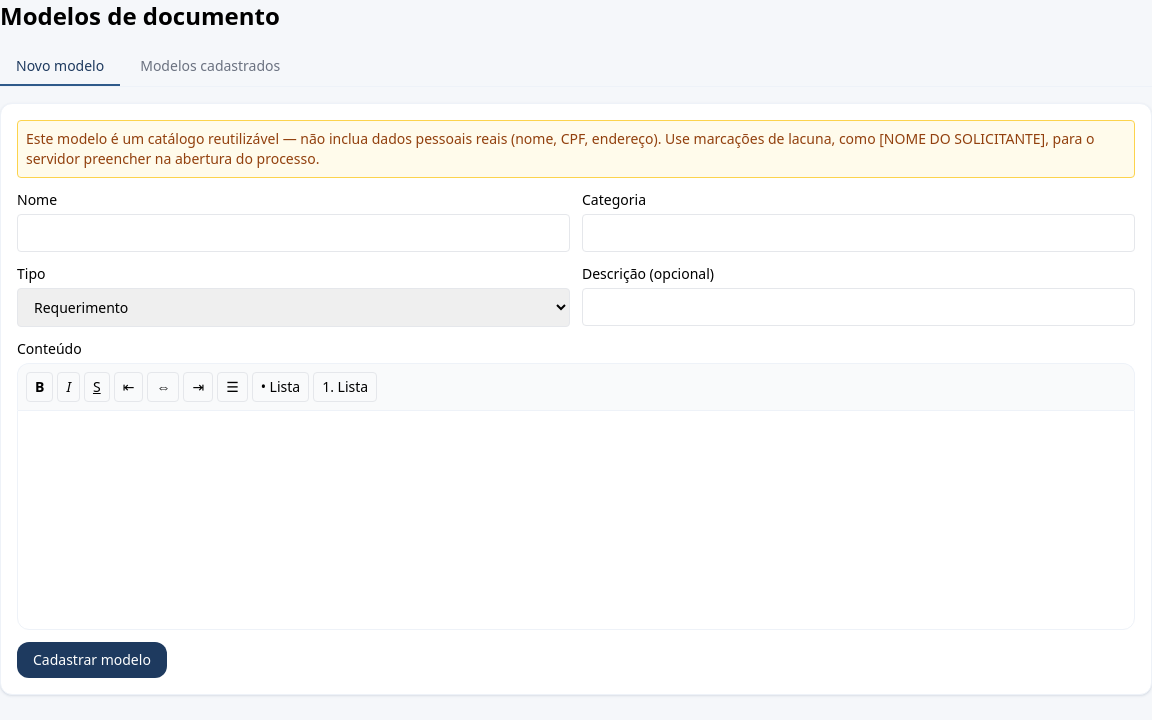
AdminModelosPage — abas (change ajustes-ui-admin) › cadastro rejeitado permanece na aba 'Novo modelo' com os dados preenchidos preservados
The width and height of the screenshot is (1152, 720).
Type "Ofício de encaminhamento" into the field labelled "Nome".
click(294, 233); type("Ofício de encaminhamento")  # box [17, 214, 570, 252]
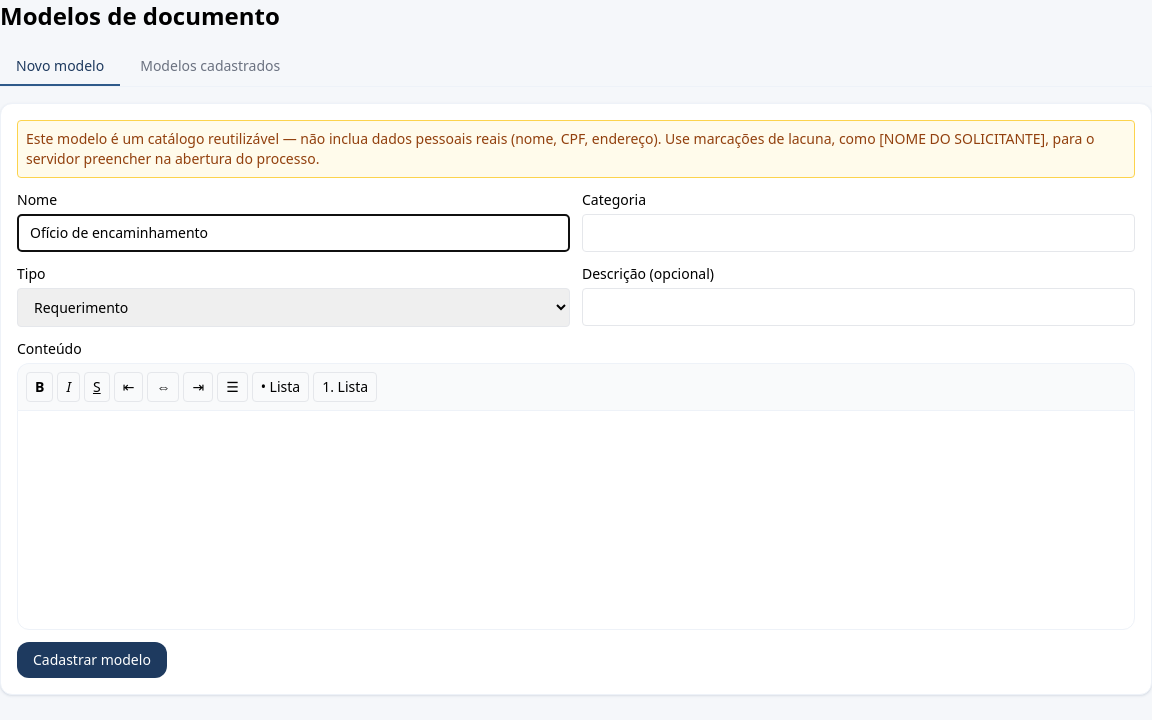
Type "Pessoal" into the field labelled "Categoria".
click(858, 233); type("Pessoal")  # box [582, 214, 1135, 252]
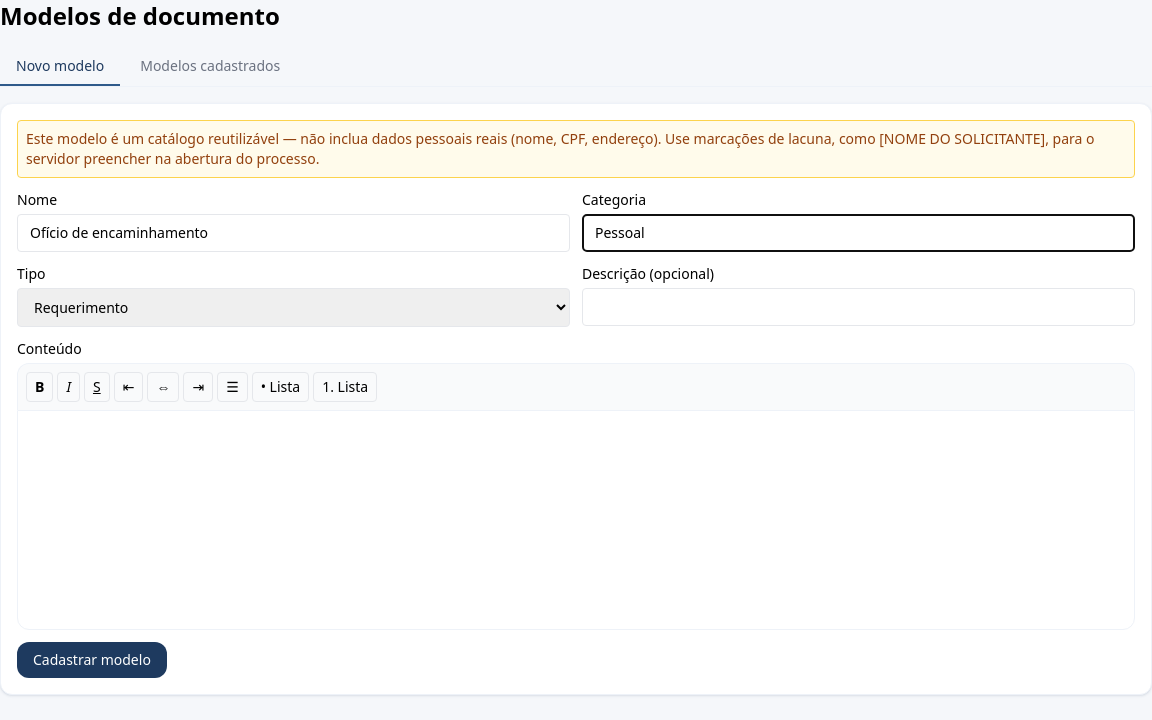
Click the button "Cadastrar modelo".
click(92, 660)  # box [17, 642, 167, 678]
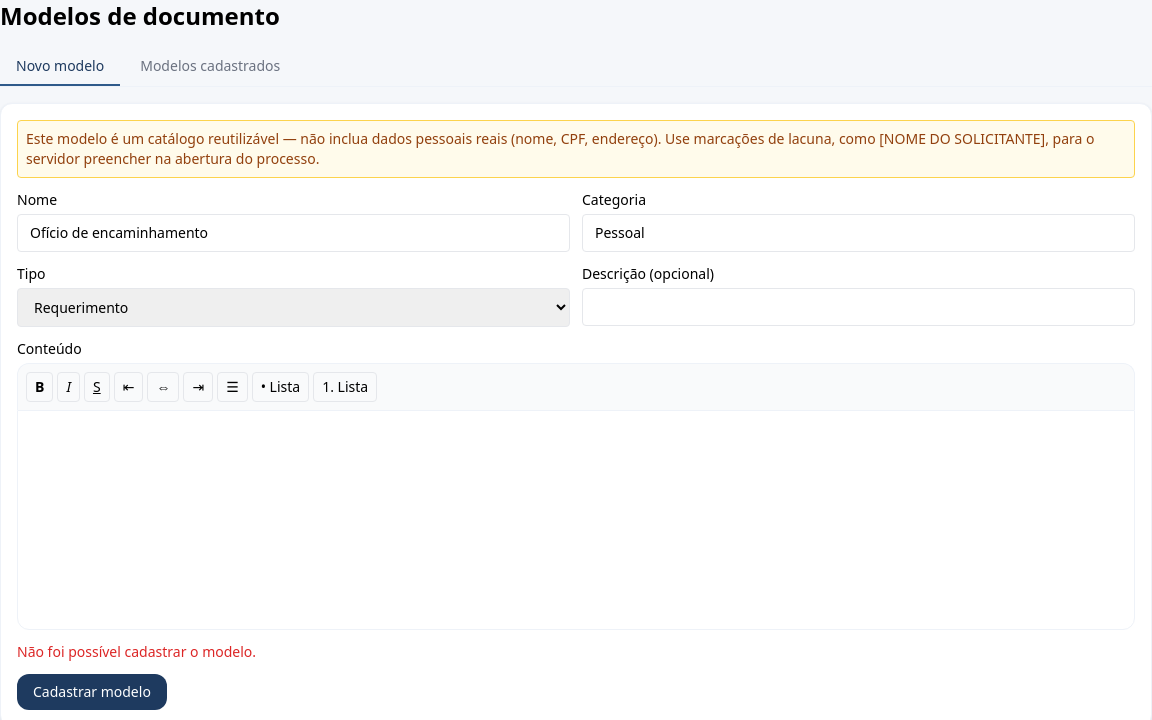
Result: the text "Não foi possível cadastrar o modelo." is shown at [17, 642, 256, 661]
